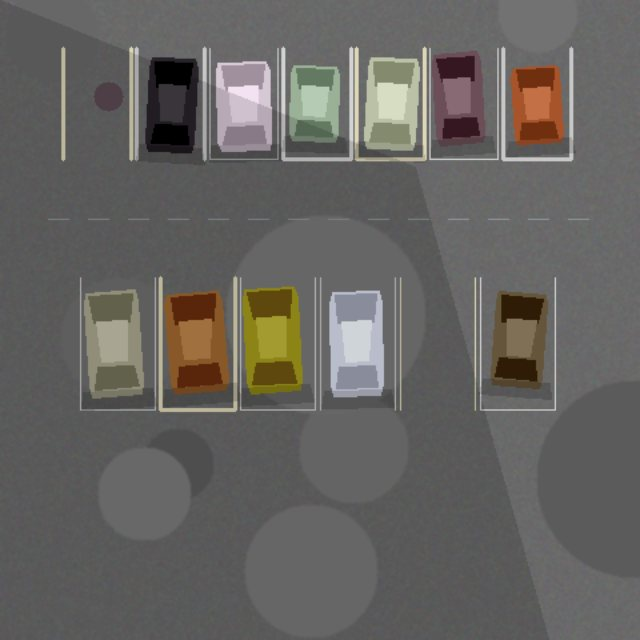space-empty: (400, 277, 475, 409), (63, 48, 131, 159)
space-occupied: (80, 277, 155, 409), (160, 277, 235, 409), (240, 277, 315, 409), (320, 277, 395, 409), (480, 277, 555, 409), (136, 48, 204, 159), (209, 48, 277, 159), (283, 48, 351, 159), (356, 48, 424, 159), (429, 48, 497, 159), (503, 48, 571, 159)
